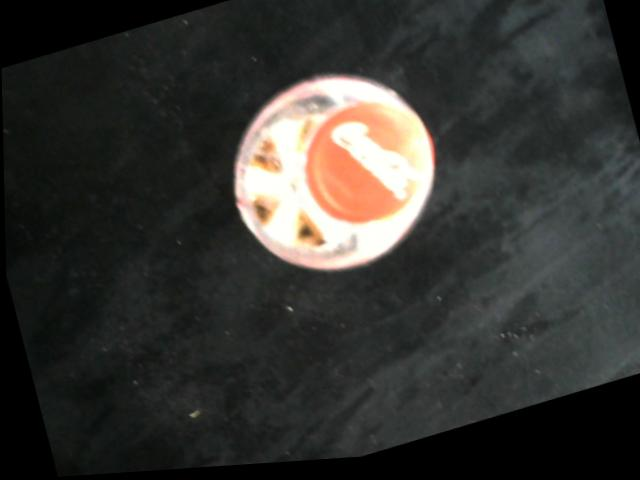bottle: (207, 50, 459, 304)
